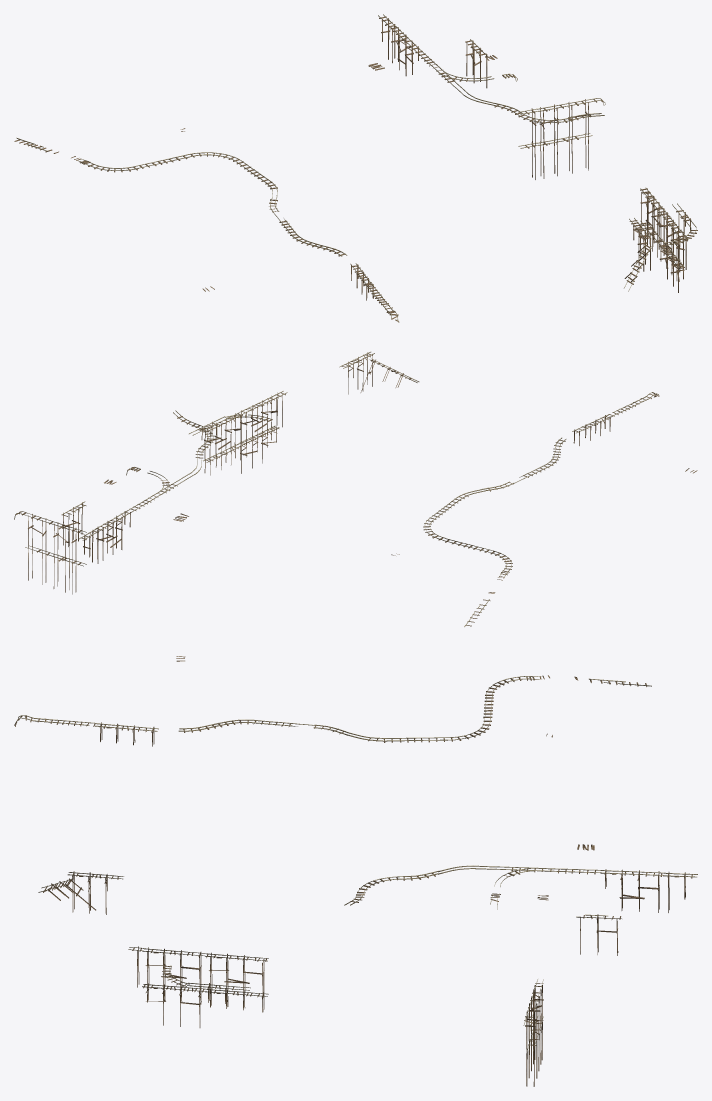
Rendered from S_Build_West078_A.FBX.
3 views of the same model, one above another, from view 1: azimuth 30°, elevation 25°; view 2: azimuth 150°, elevation 25°; view 3: azimuth 270°, elevation 25° (orthographic). The views are drawn at different scales.
Visible parts, largest first — view 1: S_Build_West077_005, S_Build_West077_010, S_Build_West077_011, S_Build_West077_008; view 2: S_Build_West077_010, S_Build_West077_002, S_Build_West077_011, S_Build_West077_005, S_Build_West077_008; view 3: S_Build_West077_010, S_Build_West077_011.
Part boxes in pixels (bbox=[...]): S_Build_West077_005: bbox=[536, 99, 592, 144]; S_Build_West077_010: bbox=[640, 187, 665, 241]; S_Build_West077_011: bbox=[659, 211, 684, 264]; S_Build_West077_008: bbox=[536, 133, 592, 178]; S_Build_West077_010: bbox=[203, 412, 242, 462]; S_Build_West077_002: bbox=[95, 510, 132, 560]; S_Build_West077_011: bbox=[239, 395, 279, 444]; S_Build_West077_005: bbox=[25, 513, 72, 560]; S_Build_West077_008: bbox=[25, 545, 71, 592]; S_Build_West077_010: bbox=[205, 952, 268, 997]; S_Build_West077_011: bbox=[142, 947, 205, 992].
Size of the model in its own units: 19892 by 4523 by 19242.
